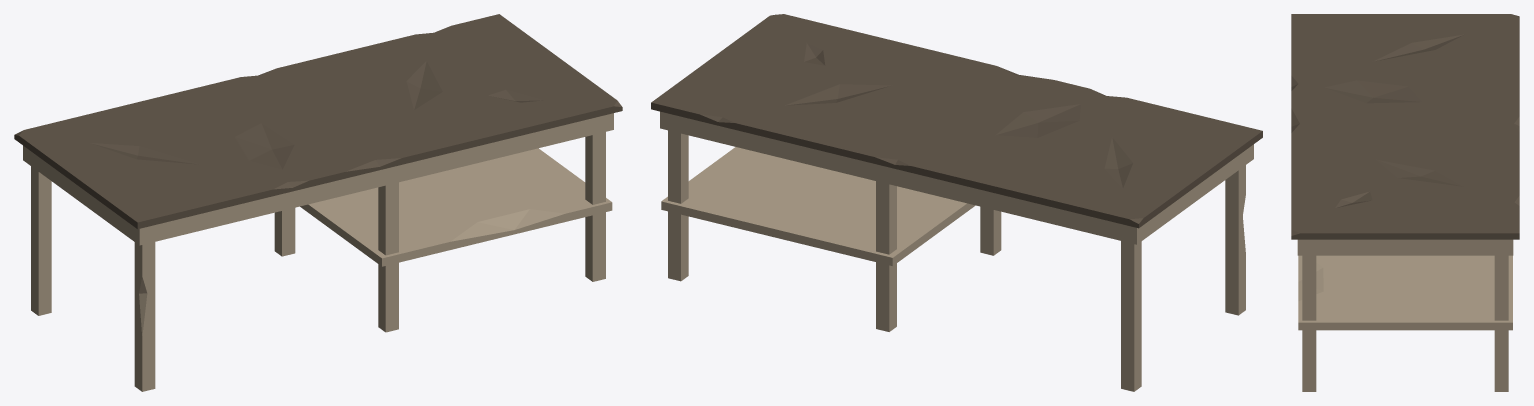
File: SM_Prop_Workbench_01.fbx
3 renders of one model, left to right at view 1: azimuth 30°, elevation 25°; view 2: azimuth 150°, elevation 25°; view 3: azimuth 270°, elevation 25°, orthographic. The views are drawn at different scales.
Visible parts, largest first — view 1: SM_Prop_Workbench_01; view 2: SM_Prop_Workbench_01; view 3: SM_Prop_Workbench_01.
Boxes of the visible parts, box(x1,y1,x2,y2) form: SM_Prop_Workbench_01: box(14, 14, 622, 391); SM_Prop_Workbench_01: box(651, 14, 1262, 391); SM_Prop_Workbench_01: box(1291, 14, 1519, 391).
Bounding box in the file's own units: 274 × 95.29 × 121.
